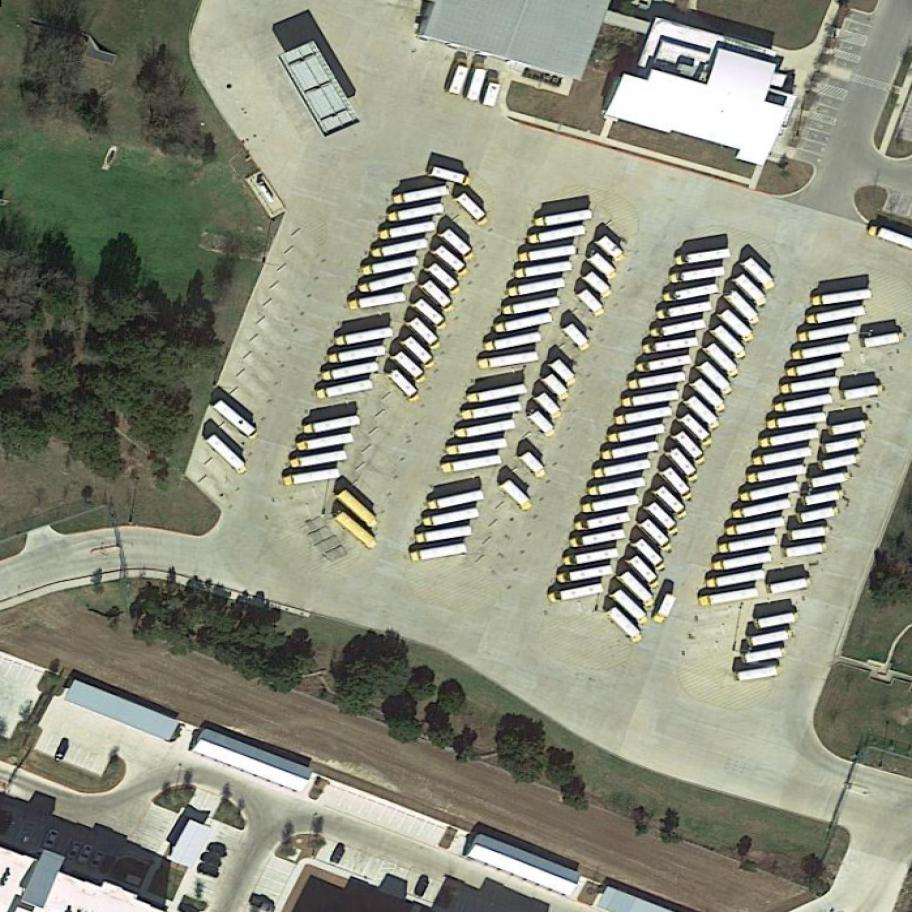large-vehicle: (211, 397, 262, 443), (204, 432, 251, 478), (334, 509, 381, 552), (335, 487, 382, 530), (785, 354, 847, 380), (731, 496, 793, 522), (611, 587, 651, 627), (605, 605, 645, 645), (437, 225, 478, 264), (618, 568, 658, 607), (615, 402, 675, 428), (407, 314, 446, 354), (421, 504, 481, 530), (690, 376, 730, 415), (710, 323, 749, 363), (390, 348, 429, 387), (797, 320, 860, 344), (789, 339, 852, 363), (518, 240, 578, 265), (712, 548, 772, 573), (699, 584, 759, 609), (725, 514, 787, 538), (685, 394, 723, 433), (401, 333, 440, 371), (359, 271, 418, 296), (746, 462, 809, 485), (698, 359, 736, 397), (433, 243, 472, 280), (705, 341, 742, 380), (493, 312, 553, 336), (607, 421, 667, 445), (371, 236, 431, 260), (301, 413, 361, 437), (806, 304, 866, 328), (774, 391, 834, 415), (759, 427, 821, 450), (428, 488, 487, 512), (466, 383, 530, 405), (645, 499, 682, 537), (742, 255, 779, 293), (334, 325, 395, 348), (753, 445, 814, 468), (316, 377, 374, 401), (502, 295, 562, 318), (484, 330, 544, 353), (628, 369, 688, 392), (626, 553, 663, 590), (420, 279, 457, 316), (427, 261, 464, 298), (455, 191, 492, 228), (634, 536, 671, 573), (727, 289, 763, 327), (412, 297, 451, 332), (461, 400, 523, 422), (440, 453, 502, 475), (718, 533, 780, 555), (562, 545, 621, 568), (601, 438, 660, 461), (349, 290, 408, 313), (391, 184, 450, 207), (411, 541, 470, 564), (446, 436, 510, 457), (740, 481, 801, 503), (378, 219, 436, 242), (388, 202, 446, 225), (656, 298, 714, 321), (718, 308, 755, 344), (534, 208, 594, 230), (514, 260, 574, 282), (322, 360, 382, 382), (548, 582, 605, 605), (455, 419, 517, 440), (528, 223, 587, 245), (509, 276, 568, 298), (587, 476, 646, 498), (635, 352, 694, 374), (680, 412, 716, 448), (639, 518, 675, 554), (388, 368, 423, 405), (812, 286, 873, 307), (594, 457, 652, 479), (581, 493, 641, 514), (290, 449, 350, 470), (296, 432, 356, 453), (780, 375, 840, 396), (767, 410, 827, 431), (735, 273, 770, 309), (675, 430, 709, 467), (668, 447, 702, 484), (329, 344, 388, 365), (655, 485, 690, 520), (479, 350, 540, 370), (570, 528, 628, 549), (573, 511, 631, 532), (663, 282, 720, 303), (501, 478, 535, 513), (663, 466, 696, 502), (362, 257, 421, 277), (707, 570, 766, 590), (676, 246, 732, 267), (671, 264, 727, 285), (415, 526, 474, 545), (557, 564, 613, 584), (623, 389, 681, 408), (651, 319, 706, 339), (444, 56, 471, 96), (643, 336, 699, 355), (464, 62, 489, 102), (431, 164, 472, 188), (738, 663, 787, 683), (758, 610, 802, 631), (752, 628, 798, 648), (771, 576, 814, 597), (745, 646, 789, 666), (825, 434, 866, 455), (864, 330, 907, 350), (844, 382, 887, 402), (787, 539, 830, 559), (805, 488, 847, 508), (800, 505, 842, 524), (831, 419, 875, 437), (821, 453, 862, 472), (791, 524, 834, 542), (812, 471, 855, 489)
small-vehicle: (545, 352, 582, 390), (581, 265, 617, 301), (586, 248, 621, 284), (560, 319, 594, 356), (574, 285, 608, 321), (594, 232, 628, 267), (519, 448, 552, 483), (532, 389, 565, 424), (540, 369, 573, 404), (651, 589, 681, 627), (528, 407, 560, 442), (480, 77, 504, 110), (87, 846, 110, 873), (205, 839, 231, 861), (194, 862, 222, 882), (51, 740, 72, 766), (198, 851, 224, 870), (97, 853, 117, 877), (77, 843, 97, 867), (67, 838, 85, 862), (43, 827, 61, 851), (414, 875, 432, 898), (329, 845, 347, 867)
